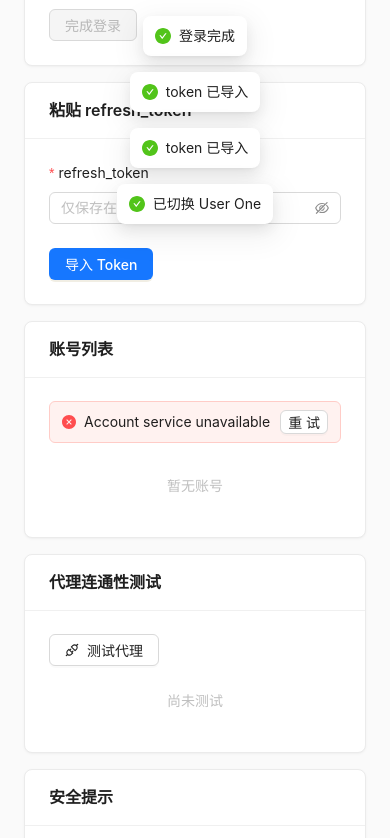
it: Accounts page › shows account load errors and allows retry
This screenshot has width=390, height=838.
(page scrolled)
Expected: the message with test id "accounts-error" shows "Account service unavailable", [84,413,270,430]
Step 1. Click the button "重 试" → (304, 422), box [280,410,328,434]
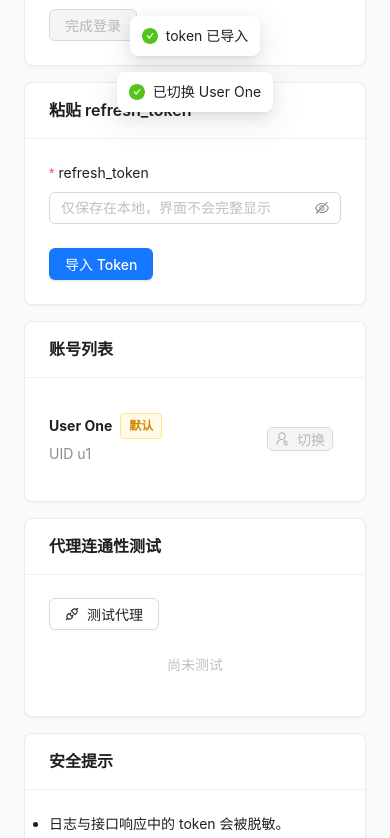
Expected: the text "User One" is shown, [49,417,112,434]
Expected: the message with test id "accounts-error" is gone
